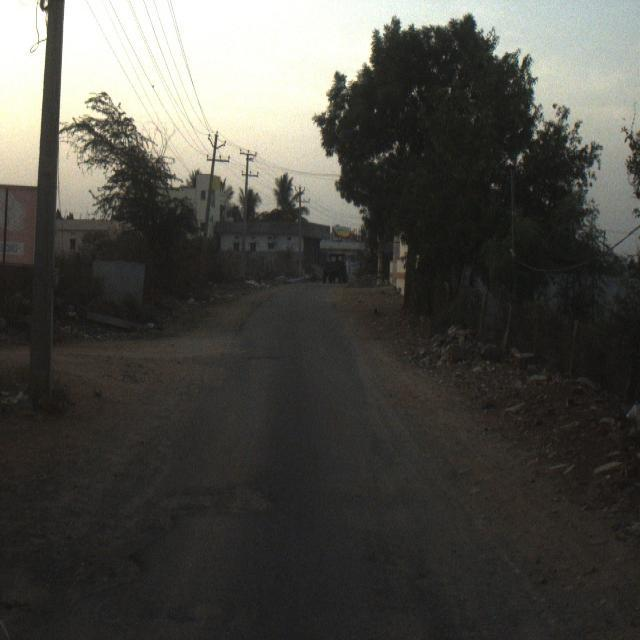Pothole: (178, 451, 293, 552), (403, 529, 491, 640), (68, 537, 160, 640), (242, 329, 317, 403), (169, 570, 248, 640)
